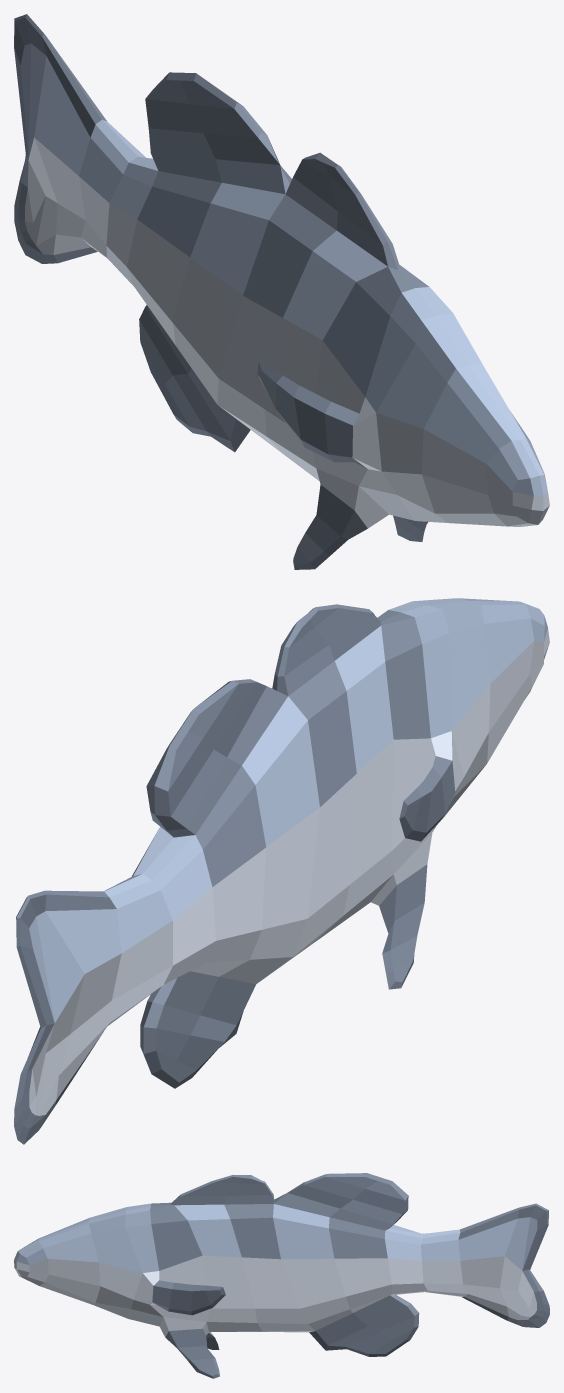
File: ArcherFish.fbx
3 renders of one model, top to bottom at view 1: azimuth 30°, elevation 25°; view 2: azimuth 150°, elevation 25°; view 3: azimuth 270°, elevation 25°, orthographic. The views are drawn at different scales.
Parts seen in each view (by area): view 1: Carp_CarpMesh; view 2: Carp_CarpMesh; view 3: Carp_CarpMesh.
Boxes of the visible parts, box(x1,y1,x2,y2) form: Carp_CarpMesh: box(14, 14, 549, 569); Carp_CarpMesh: box(14, 598, 549, 1144); Carp_CarpMesh: box(14, 1173, 549, 1378).
Size of the model in its own units: 85.1 by 432 by 170.
